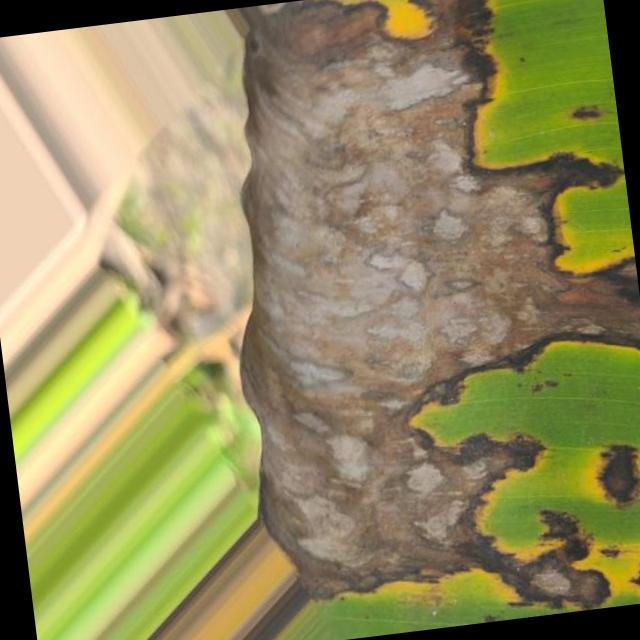Banana_Black_Sigatoka: (176, 0, 640, 623)
